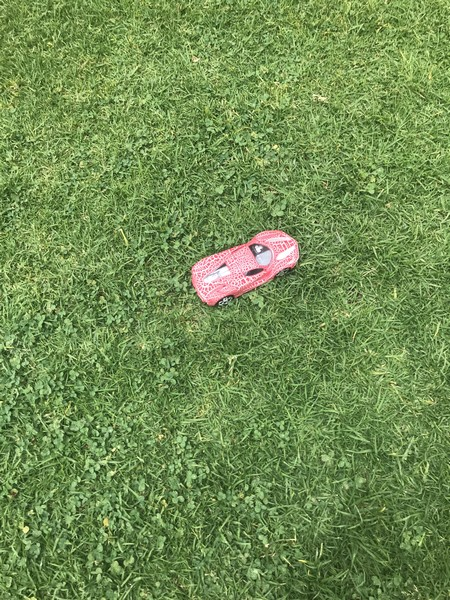RC: (188, 228, 304, 310)
